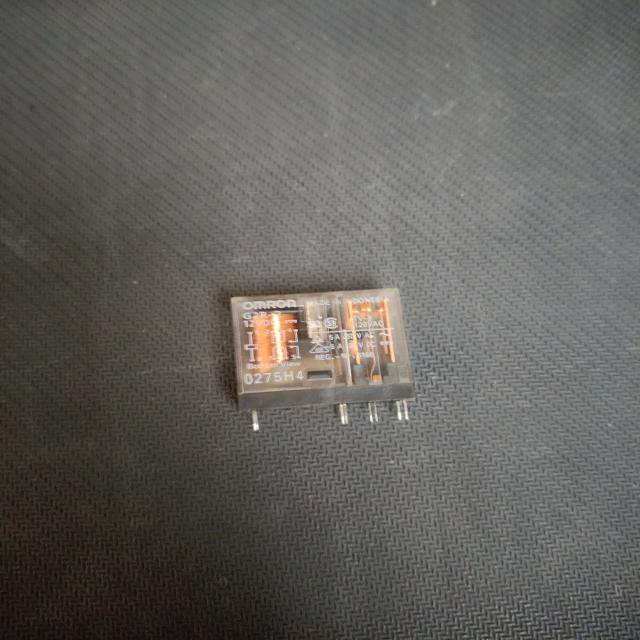relay: (212, 275, 436, 437)
